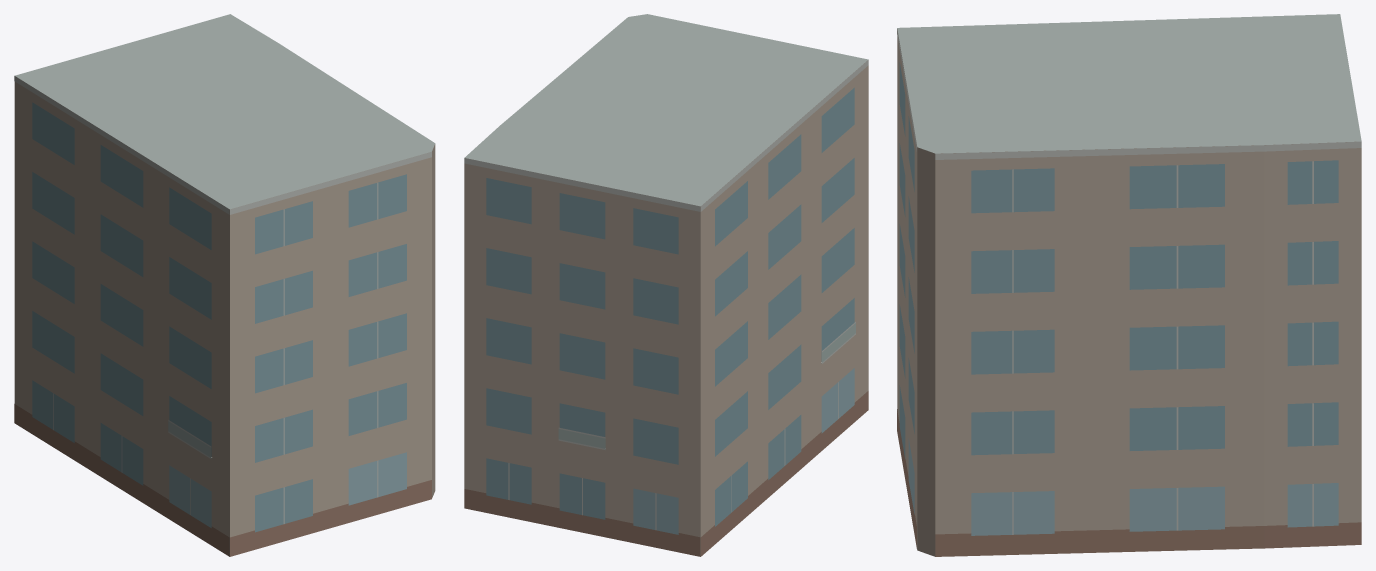
The model's file is survey-upis-32727555.glb.
The picture shows the model from 3 angles, left to right: view 1: azimuth 30°, elevation 25°; view 2: azimuth 150°, elevation 25°; view 3: azimuth 270°, elevation 25°; orthographic projection. The views are drawn at different scales.
Visible parts, largest first — view 1: survey-upis-32727555.tmp; view 2: survey-upis-32727555.tmp; view 3: survey-upis-32727555.tmp.
Boxes of the visible parts, x1=… form: survey-upis-32727555.tmp: x1=14, y1=14, x2=435, y2=556; survey-upis-32727555.tmp: x1=464, y1=14, x2=868, y2=556; survey-upis-32727555.tmp: x1=897, y1=14, x2=1361, y2=556.
Bounding box in the file's own units: 11.33 × 15.25 × 15.93.
